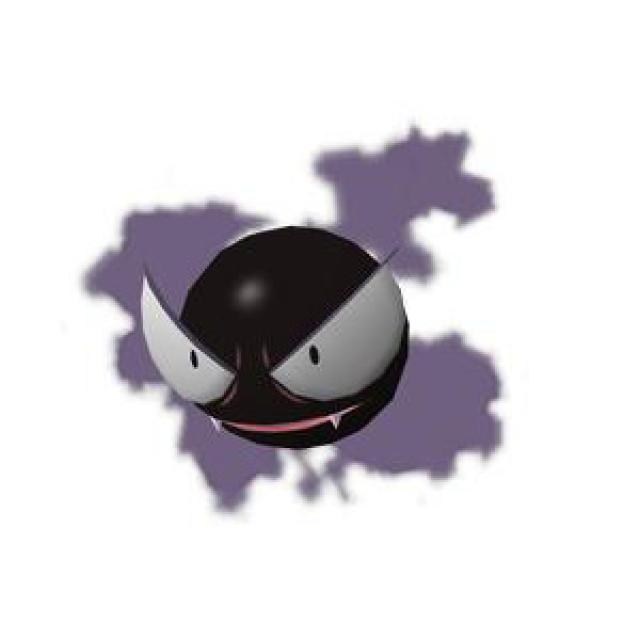Gastly: (137, 208, 417, 474)
